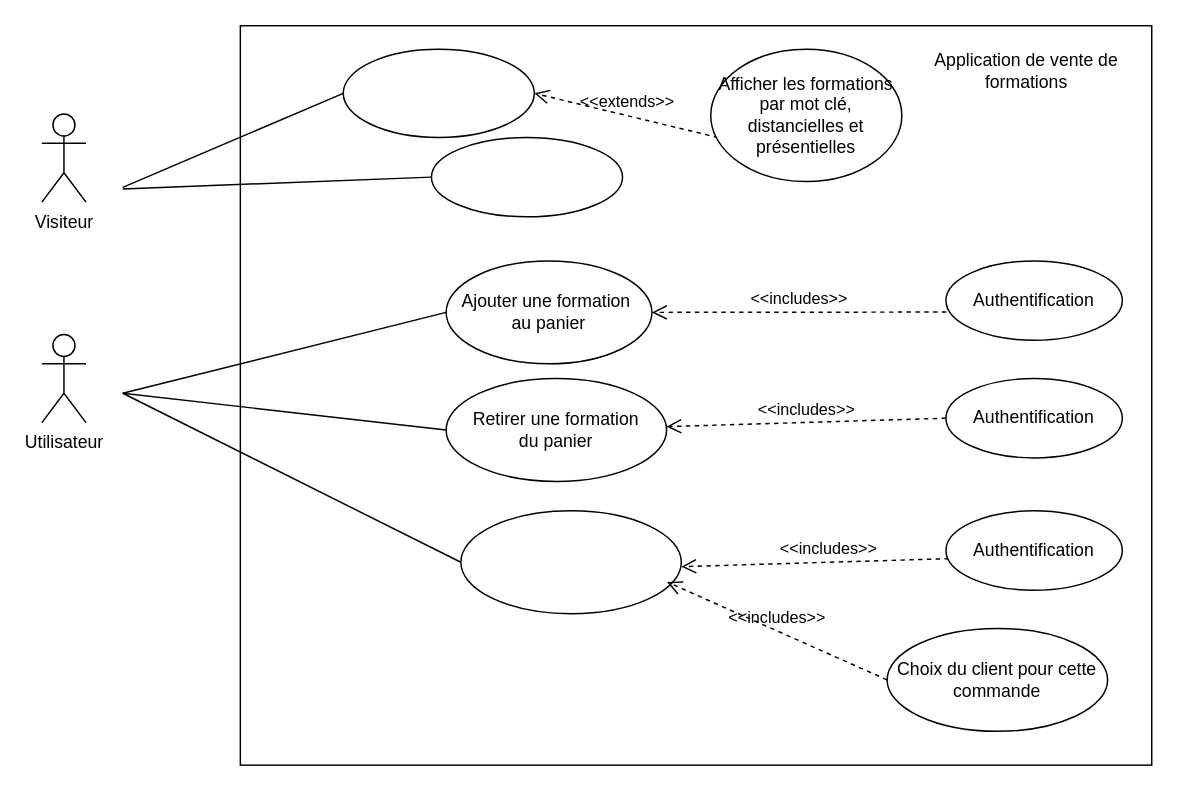
Some shapes in this 1177 by 791 pixel diagram are drawn without their labels. Each missing label, with the centre of its shape:
Afficher les formations: point 438,92
Création d'un compte utilisateur: point 526,176
Passer la commande: point 570,561
